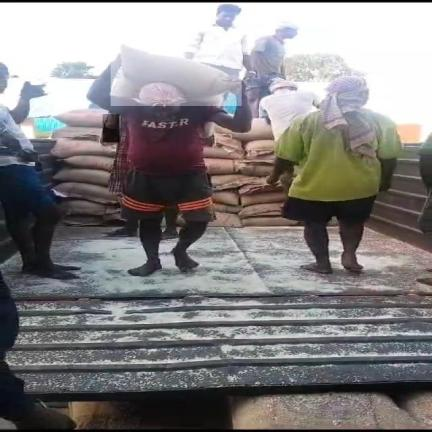Zone-Counting: (88, 48, 251, 275)
